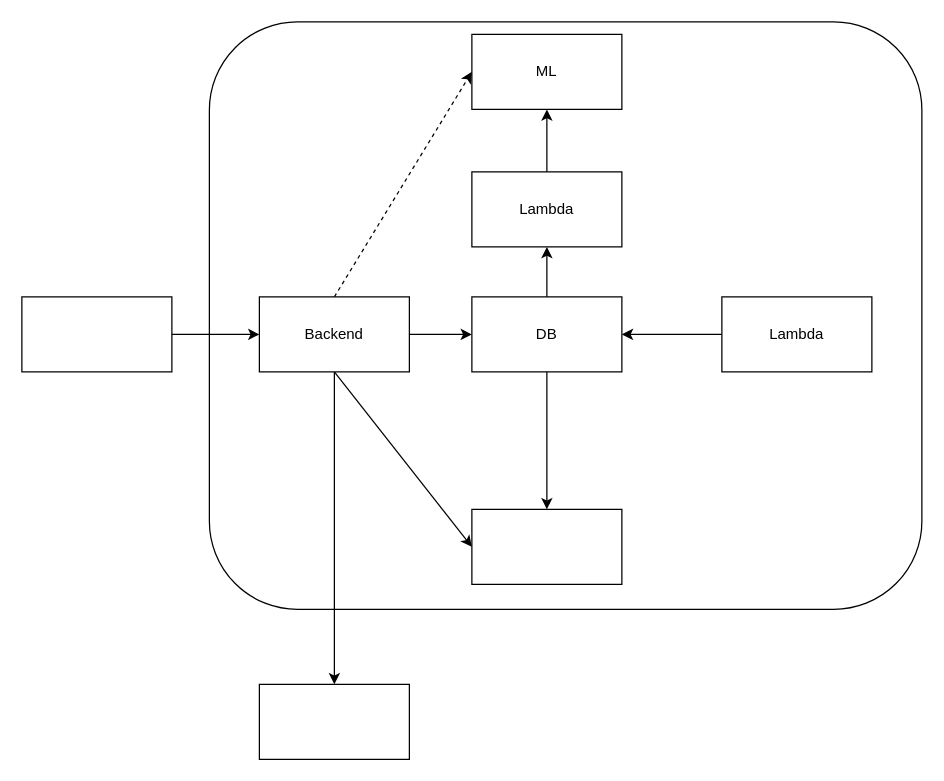
Image size: 944x781. Some labels were removed from this diagram. The centre of each missing label's shape, as x and y in pixels:
"DeepL" goes at (x=333, y=721).
"ElasticSearch" goes at (x=546, y=546).
"Frontend" goes at (x=96, y=334).
